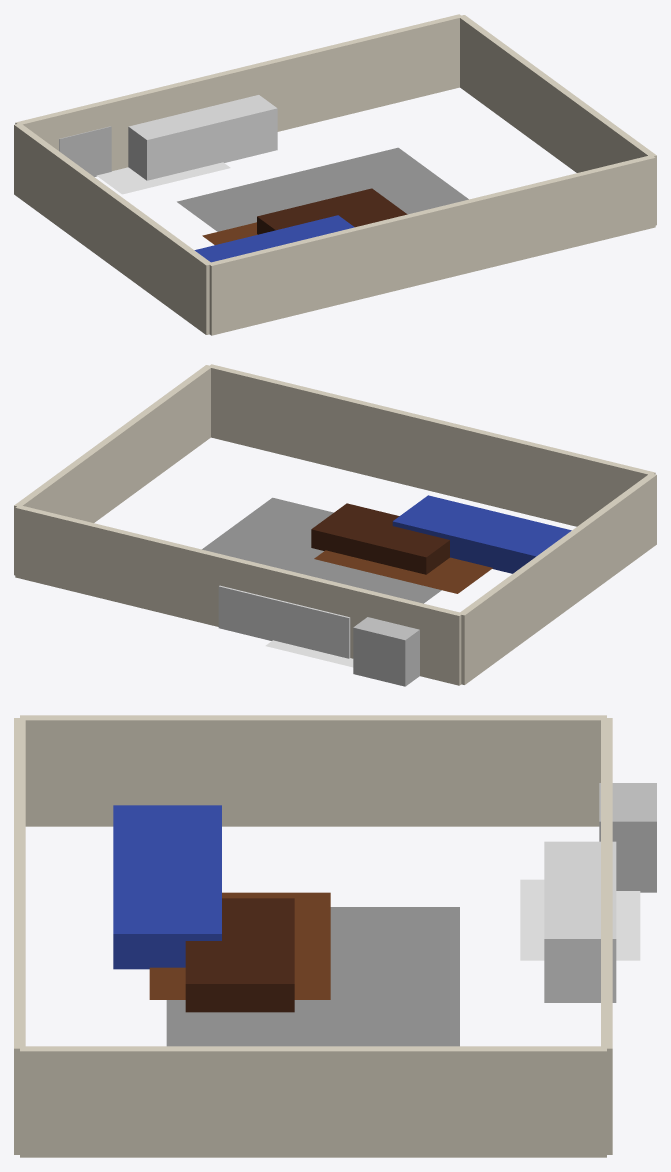
Rendered from boq_professional_cfca8984-c2e4-4de3-a15a-cf3a6fd5e7b4.obj.
3 renders of one model, top to bottom at view 1: azimuth 30°, elevation 25°; view 2: azimuth 150°, elevation 25°; view 3: azimuth 270°, elevation 25°, orthographic. The views are drawn at different scales.
Parts seen in each view (by area): view 1: ExteriorWall_South, ExteriorWall_North, ExteriorWall_West, ExteriorWall_East, Foundation, Counter_Kitchen, CoffeeTable_Living_Room, Sofa_Living_Room, Fridge_Kitchen, Floor_Kitchen, Floor_Living_Room; view 2: ExteriorWall_South, ExteriorWall_North, ExteriorWall_West, ExteriorWall_East, Foundation, Sofa_Living_Room, CoffeeTable_Living_Room, Counter_Kitchen, Fridge_Kitchen, Floor_Living_Room, Floor_Kitchen; view 3: ExteriorWall_East, ExteriorWall_West, Foundation, Sofa_Living_Room, CoffeeTable_Living_Room, Counter_Kitchen, Floor_Living_Room, Fridge_Kitchen, ExteriorWall_South, ExteriorWall_North, Floor_Kitchen.
Boxes of the visible parts, <box> form: ExteriorWall_South: <box>208,155,655,335</box>; ExteriorWall_North: <box>15,14,462,170</box>; ExteriorWall_West: <box>14,124,212,334</box>; ExteriorWall_East: <box>458,15,656,225</box>; Foundation: <box>177,147,468,231</box>; Counter_Kitchen: <box>128,95,277,180</box>; CoffeeTable_Living_Room: <box>257,188,407,234</box>; Sofa_Living_Room: <box>194,215,354,262</box>; Fridge_Kitchen: <box>59,126,111,176</box>; Floor_Kitchen: <box>96,162,230,194</box>; Floor_Living_Room: <box>202,222,257,244</box>; ExteriorWall_South: <box>208,364,655,526</box>; ExteriorWall_North: <box>15,506,462,685</box>; ExteriorWall_West: <box>458,473,656,684</box>; ExteriorWall_East: <box>14,365,212,575</box>; Foundation: <box>202,497,441,603</box>; Sofa_Living_Room: <box>392,495,571,573</box>; CoffeeTable_Living_Room: <box>311,503,449,574</box>; Counter_Kitchen: <box>218,585,350,658</box>; Fridge_Kitchen: <box>353,617,419,686</box>; Floor_Living_Room: <box>314,550,492,593</box>; Floor_Kitchen: <box>265,640,353,667</box>; ExteriorWall_East: <box>20,1046,606,1157</box>; ExteriorWall_West: <box>20,715,606,826</box>; Foundation: <box>166,907,459,1046</box>; Sofa_Living_Room: <box>113,805,221,969</box>; CoffeeTable_Living_Room: <box>185,898,294,1012</box>; Counter_Kitchen: <box>544,841,616,1002</box>; Floor_Living_Room: <box>149,892,330,999</box>; Fridge_Kitchen: <box>599,783,656,892</box>; ExteriorWall_South: <box>14,718,25,1154</box>; ExteriorWall_North: <box>601,718,612,1154</box>; Floor_Kitchen: <box>520,879,640,960</box>.
Bounding box in the file's own units: 20.3 × 3 × 16.43.
